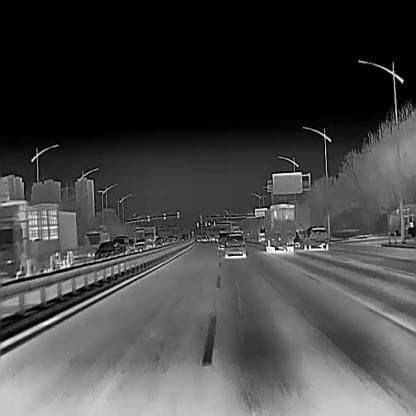car: (302, 224, 328, 249), (223, 231, 246, 257), (93, 240, 123, 259), (113, 235, 128, 254), (134, 237, 146, 251), (153, 236, 164, 248), (127, 237, 134, 252)
truck: (0, 199, 60, 277), (264, 202, 295, 252), (56, 206, 77, 265), (386, 202, 416, 235)
